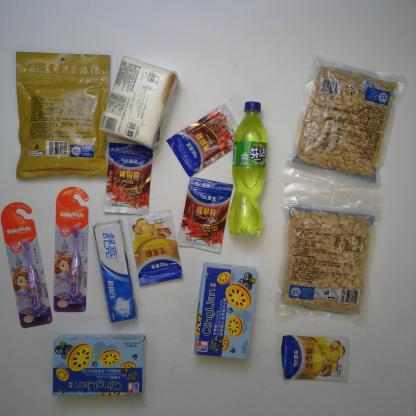Dessert: (51, 335, 152, 396), (201, 260, 259, 366)
Dried Fruit: (285, 54, 398, 196), (13, 49, 109, 180), (278, 201, 381, 312)
Drink: (237, 98, 269, 244)
Personal Hygiene: (1, 204, 52, 329), (55, 187, 94, 316), (96, 220, 139, 330)
Seasoner: (275, 331, 371, 393), (169, 101, 234, 176), (128, 214, 190, 285), (182, 167, 231, 255), (108, 140, 152, 214)
Tissue: (106, 54, 162, 146)
